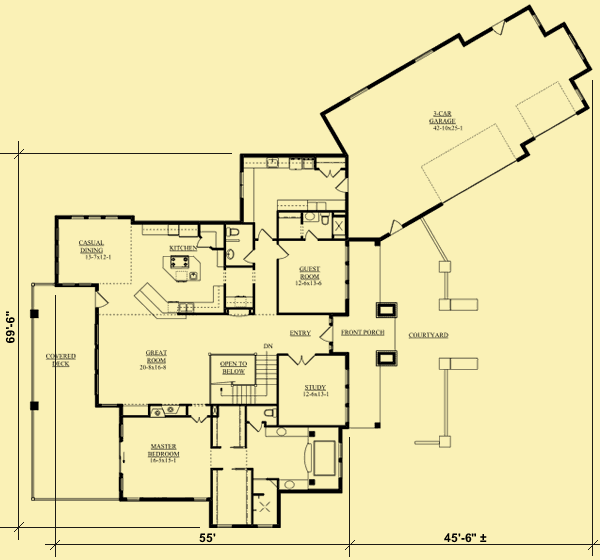door: (282, 349, 322, 369), (316, 159, 344, 178), (92, 290, 113, 310), (318, 325, 334, 349), (273, 243, 291, 263), (243, 418, 264, 435), (188, 413, 210, 426), (258, 226, 273, 244), (333, 177, 348, 195), (240, 245, 255, 262)
kitchen bar: (162, 252, 206, 285)
large sink: (220, 223, 242, 239), (318, 210, 334, 228), (262, 405, 278, 423)
small sink: (264, 426, 310, 440), (281, 475, 315, 492), (223, 243, 236, 266), (302, 207, 318, 225)
stairs: (208, 352, 279, 407)
windows: (340, 239, 355, 306), (65, 211, 121, 224), (341, 362, 352, 423), (115, 432, 130, 475), (336, 436, 346, 480)
